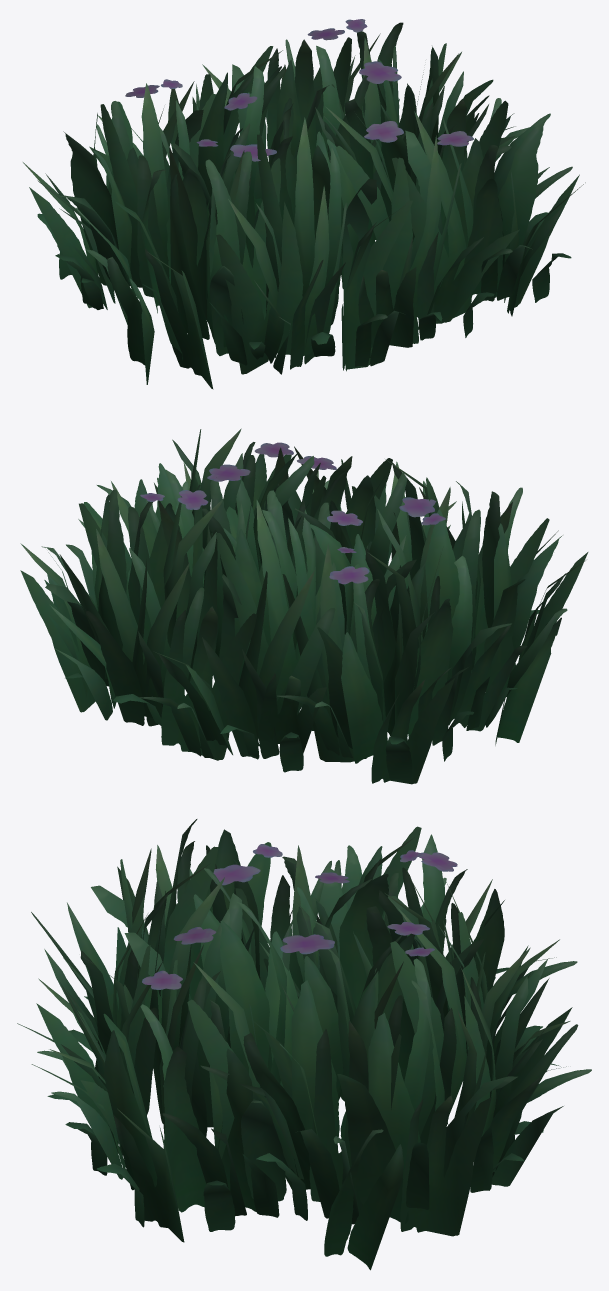
The model's file is pref_sm_garden_techgrass02_lv2.fbx.
The picture shows the model from 3 angles, top to bottom: view 1: azimuth 30°, elevation 25°; view 2: azimuth 150°, elevation 25°; view 3: azimuth 270°, elevation 25°; orthographic projection. The views are drawn at different scales.
Visible parts, largest first — view 1: pref_sm_garden_techgrass02_lv2; view 2: pref_sm_garden_techgrass02_lv2; view 3: pref_sm_garden_techgrass02_lv2.
Part boxes in pixels (x1,y1,x2,y2): pref_sm_garden_techgrass02_lv2: [23, 19, 585, 389]; pref_sm_garden_techgrass02_lv2: [20, 428, 588, 784]; pref_sm_garden_techgrass02_lv2: [17, 819, 591, 1270].
Bounding box in the file's own units: 4.5 × 2.34 × 4.16.
